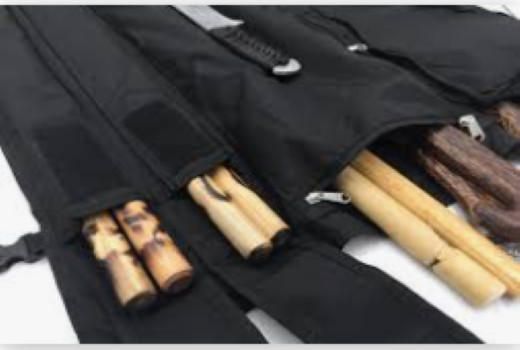baston_e: (346, 179, 489, 298), (362, 159, 507, 276)
baston_v: (438, 272, 508, 316), (477, 242, 520, 297), (109, 275, 162, 318), (147, 262, 202, 299), (248, 211, 295, 250), (228, 229, 271, 271)
